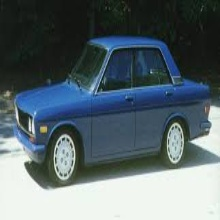no damage: (13, 34, 211, 187)
